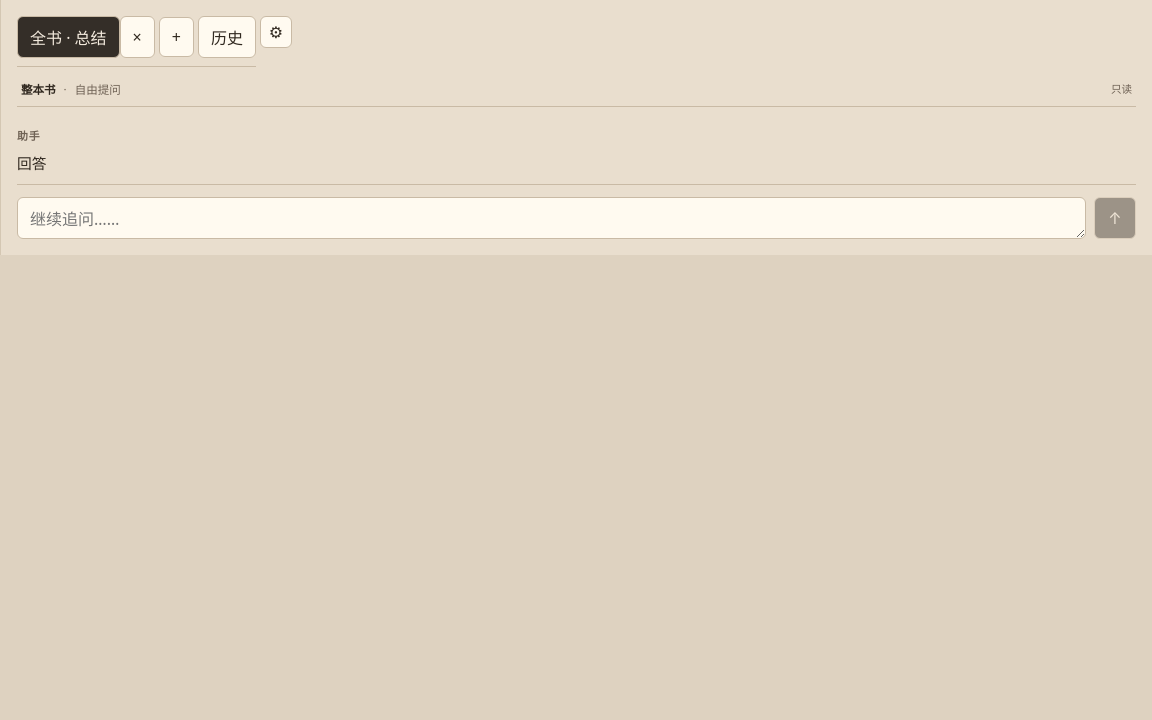
Test case: RightAiPanel › 全书认知菜单支持 Escape 和外部点击关闭
The image size is (1152, 720).
Click the button named "全书认知设置": (276,32) [260,16,292,48]
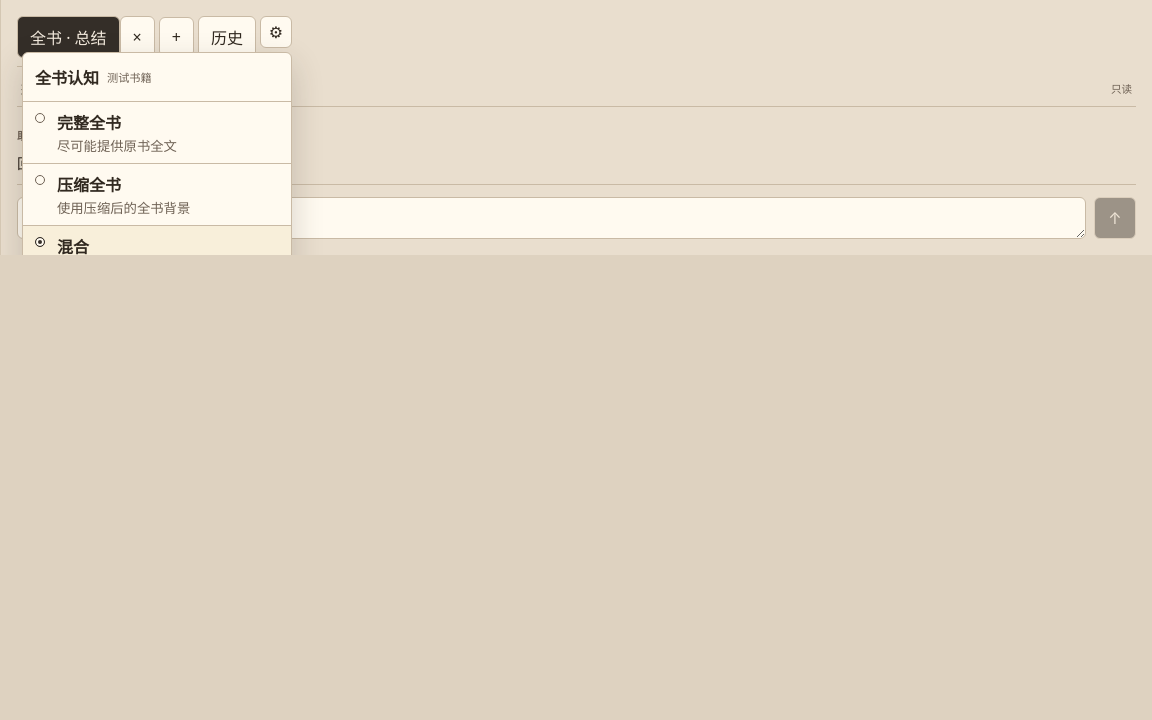
Press Escape
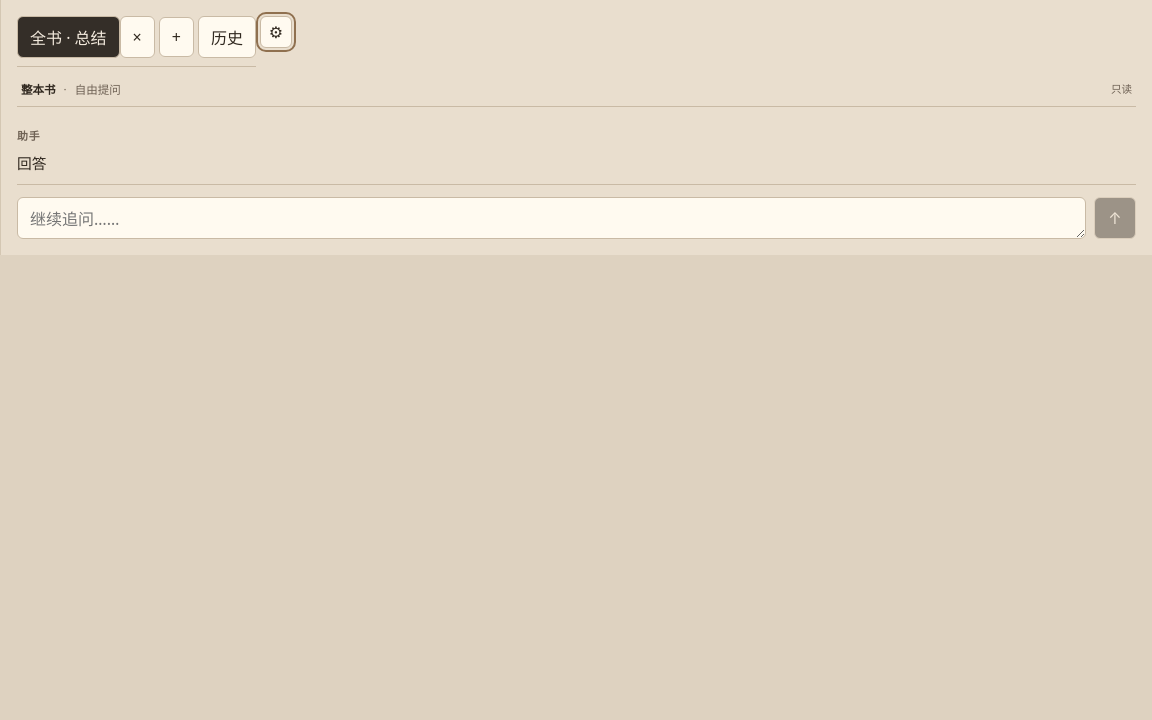
Check: the text "全书认知" is gone
Click the button named "全书认知设置": (276,32) [260,16,292,48]
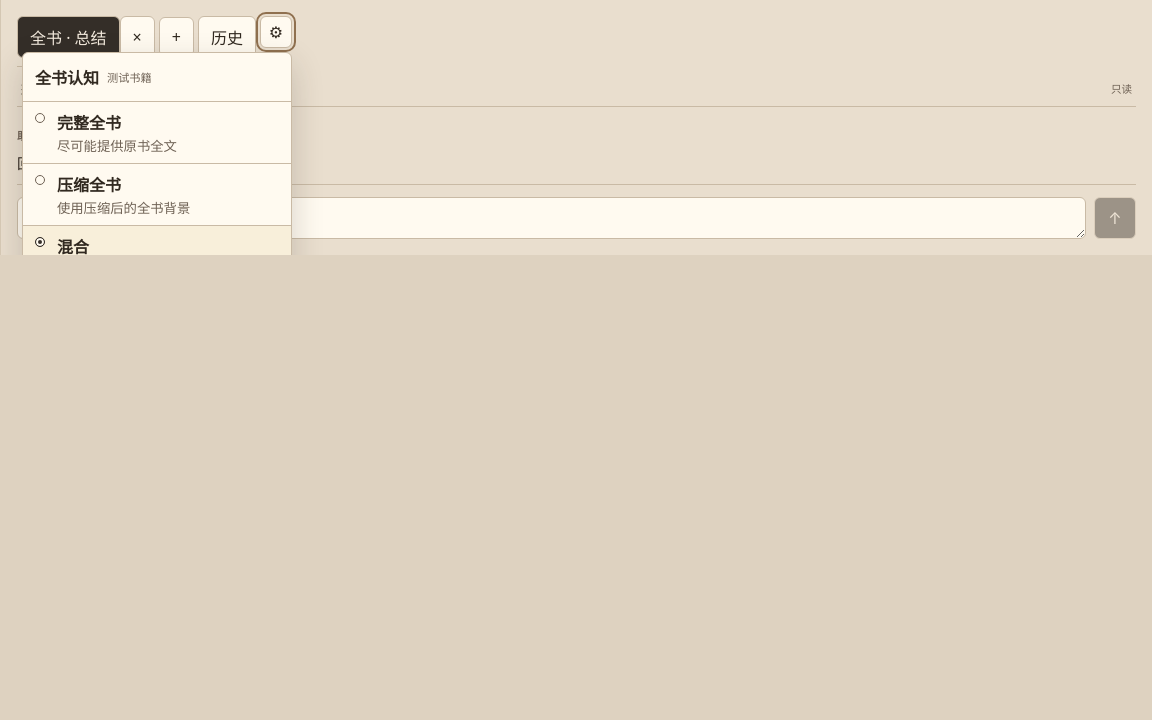
Press the mouse on the element that starts with "全书 · 总结": (576,360) [0,0,1151,719]
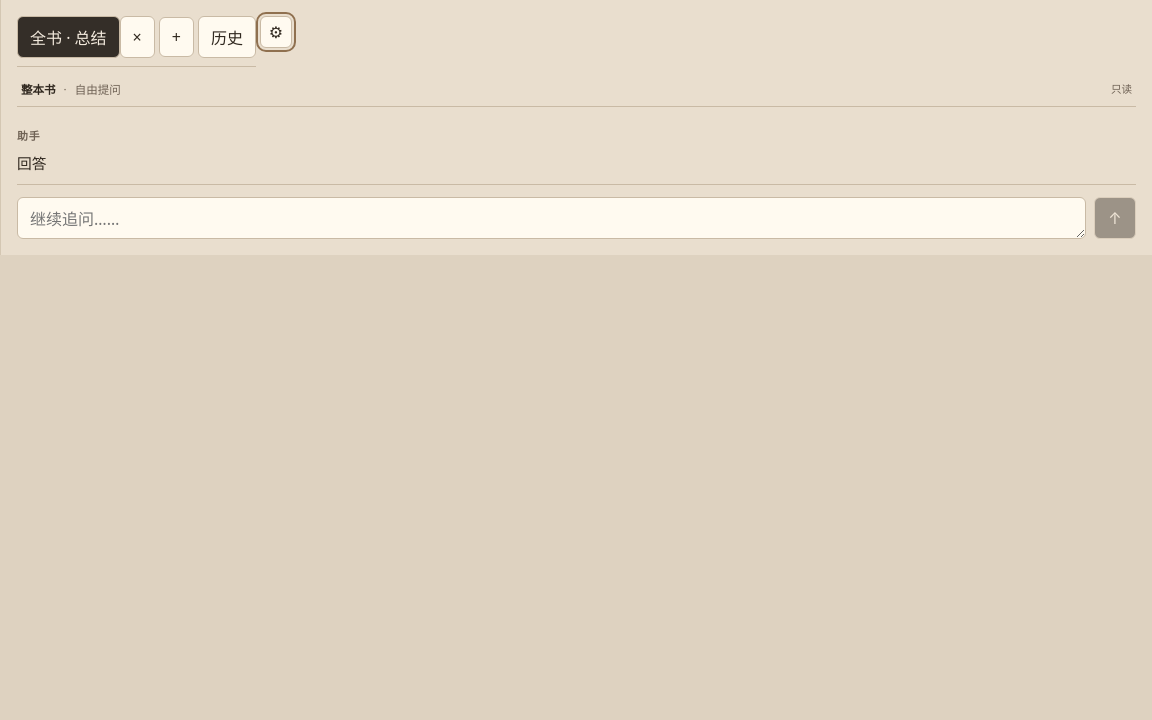
Check: the text "全书认知" is gone
